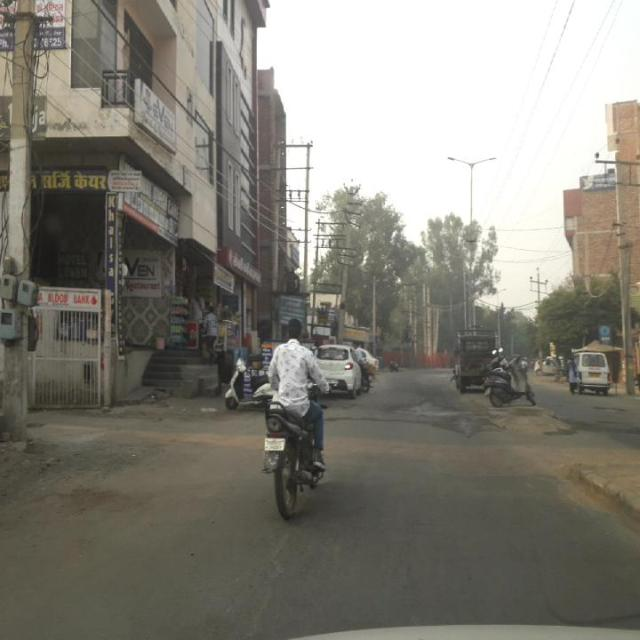Surface Erosion: (336, 337, 640, 576)
